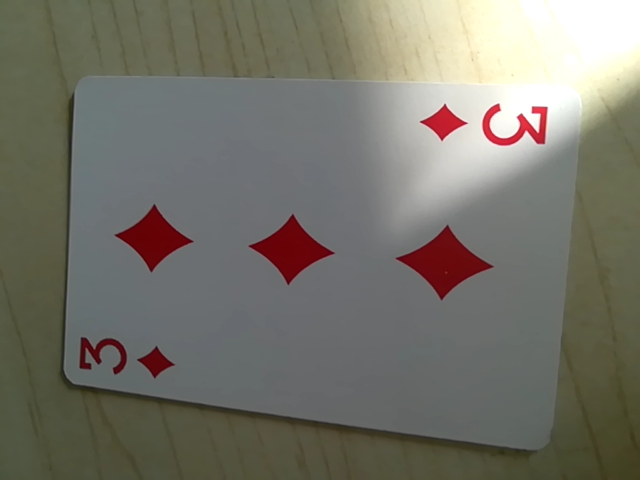fk 3: (410, 94, 554, 156), (72, 325, 179, 392)
